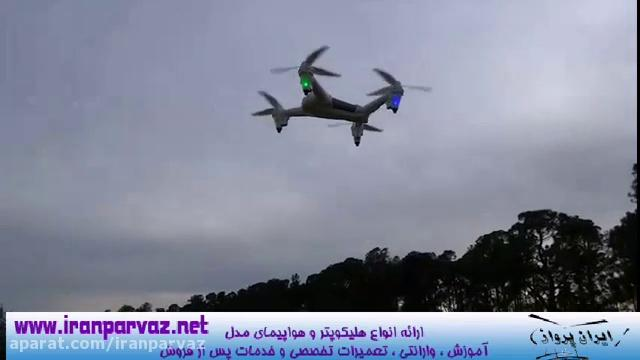drone: (247, 42, 435, 148)
